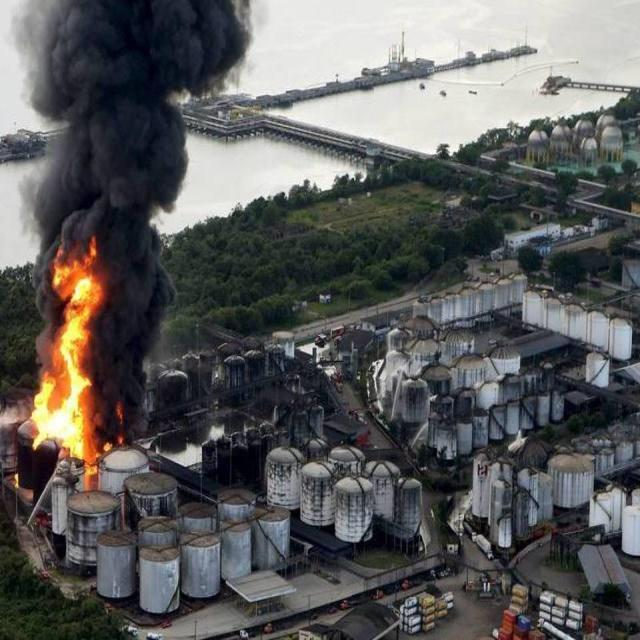fire: (53, 271, 84, 453)
smoke: (114, 16, 151, 430), (41, 23, 109, 244), (157, 11, 227, 79)
